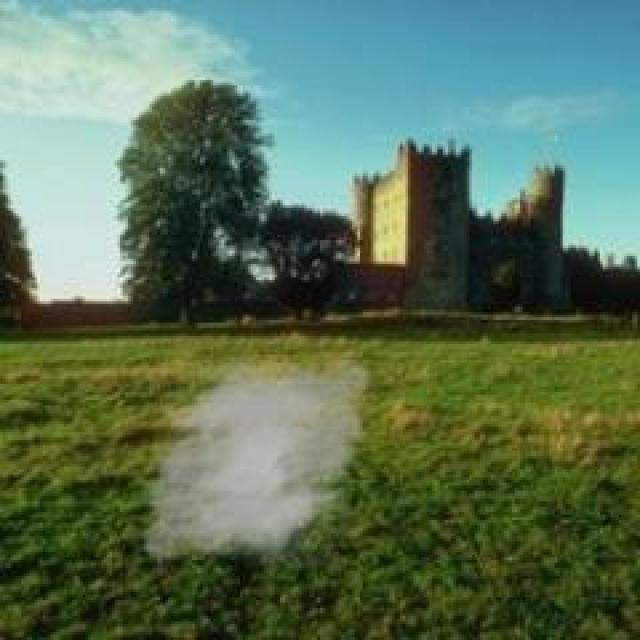smoke: (132, 338, 380, 578)
